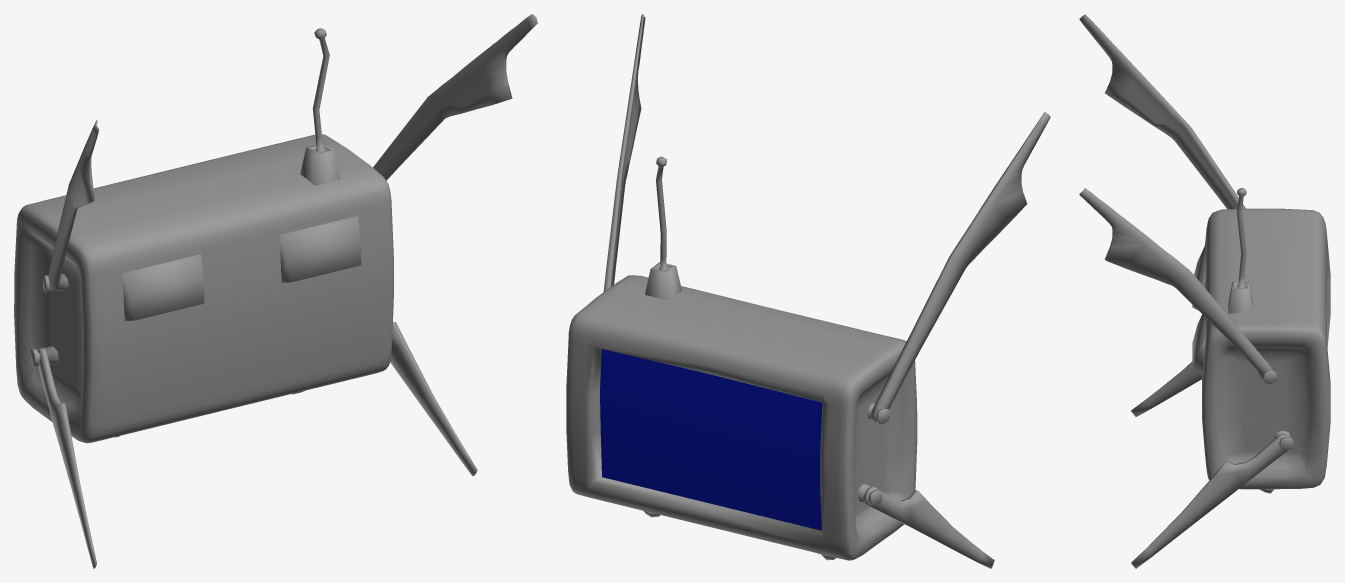
3 renders of one model, left to right at view 1: azimuth 30°, elevation 25°; view 2: azimuth 150°, elevation 25°; view 3: azimuth 270°, elevation 25°, orthographic. The views are drawn at different scales.
Parts seen in each view (by area): view 1: ST2_low, Aile_D_low, Ventil_low, Ventil2_low, Aile_D2_low, Aile_G_low, Aile_G2_low, Carre_low, antenne_low; view 2: ST2_low, Object, Aile_G_low, Aile_G2_low, Aile_D_low, Carre_low, antenne_low; view 3: ST2_low, Aile_D_low, Aile_G_low, Aile_D2_low, Aile_G2_low, Carre_low, Ventil_low, antenne_low.
Part boxes in pixels (x1,y1,x2,y2): ST2_low: (14,134,393,443); Aile_D_low: (373,14,537,180); Ventil_low: (279,216,361,282); Ventil2_low: (122,254,204,321); Aile_D2_low: (390,321,477,476); Aile_G_low: (48,120,99,290); Aile_G2_low: (37,348,96,568); Carre_low: (300,143,340,185); antenne_low: (312,28,329,151); ST2_low: (566,275,917,560); Object: (600,349,822,530); Aile_G_low: (871,112,1050,421); Aile_G2_low: (863,486,994,568); Aile_D_low: (603,14,645,291); Carre_low: (645,262,681,300); antenne_low: (656,156,667,270); ST2_low: (1202,208,1330,489); Aile_D_low: (1079,188,1272,376); Aile_G_low: (1079,14,1245,209); Aile_D2_low: (1131,434,1288,568); Aile_G2_low: (1131,361,1201,416); Carre_low: (1228,282,1252,313); Ventil_low: (1192,314,1205,374); antenne_low: (1236,188,1246,287).
Bounding box in the file's own units: 85.22 × 88.15 × 51.3.
